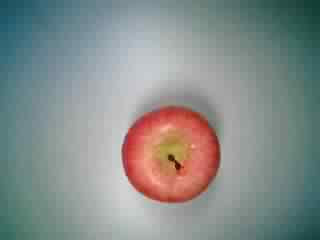apple: (121, 104, 225, 205)
